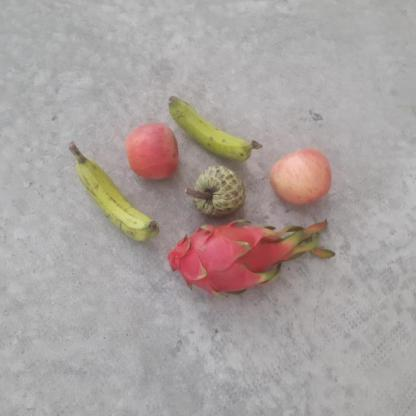annona: (192, 161, 246, 219)
apple: (268, 146, 336, 208), (122, 120, 181, 178)
banana: (71, 157, 160, 244), (164, 95, 262, 162)
pitaya: (167, 218, 289, 299)
